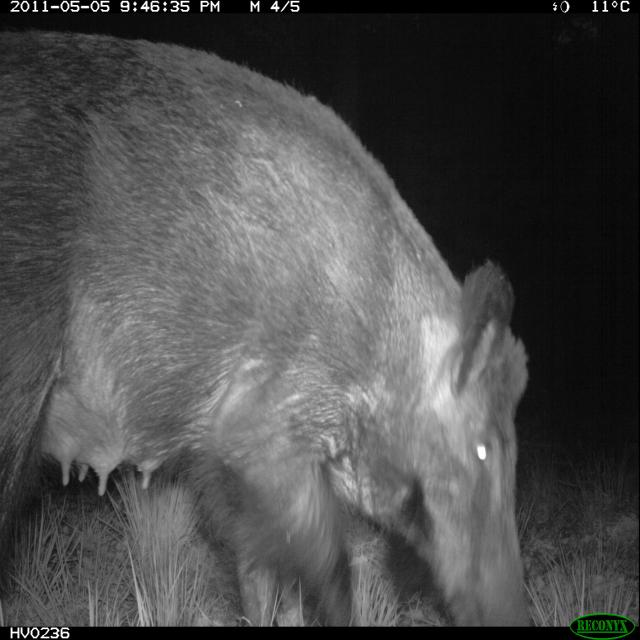boar: (0, 16, 573, 626)
